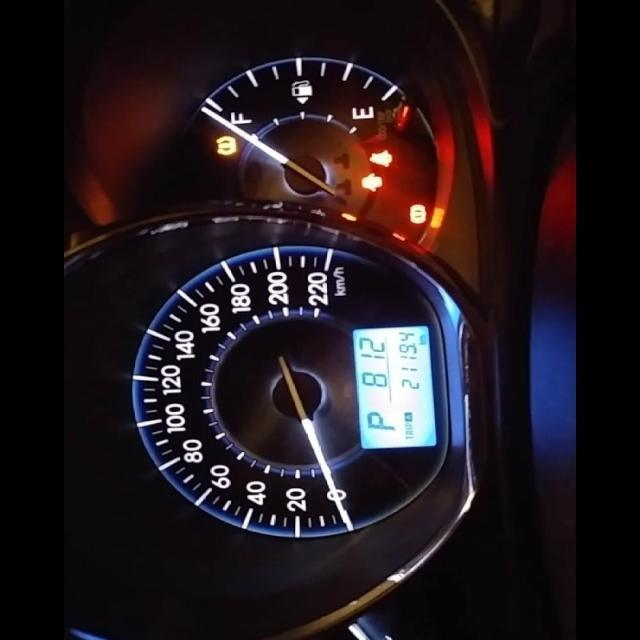Seat Belt: (368, 150, 392, 168)
